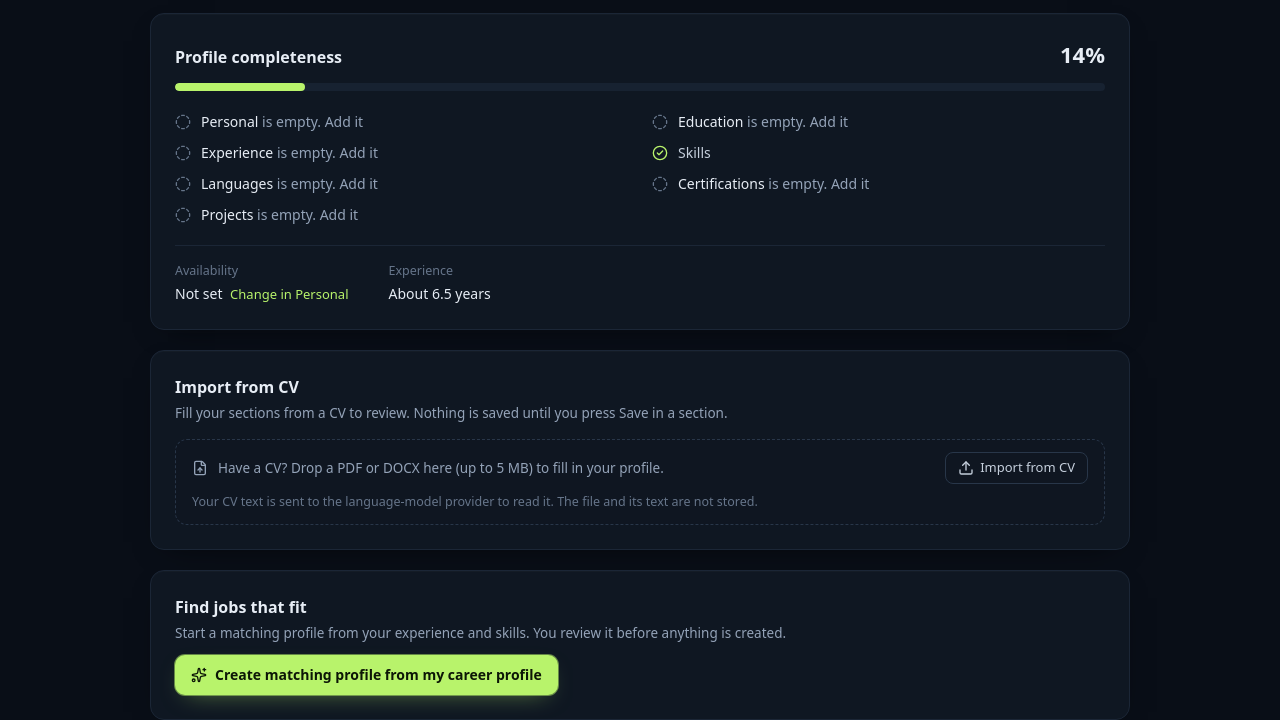
it: Create matching profile from my career profile › says what is missing even when the 422 has no error envelope
(page scrolled)
Click the button "Create matching profile from my career profile". click: point(366, 675)
box: [175,655,558,695]
(page scrolled)
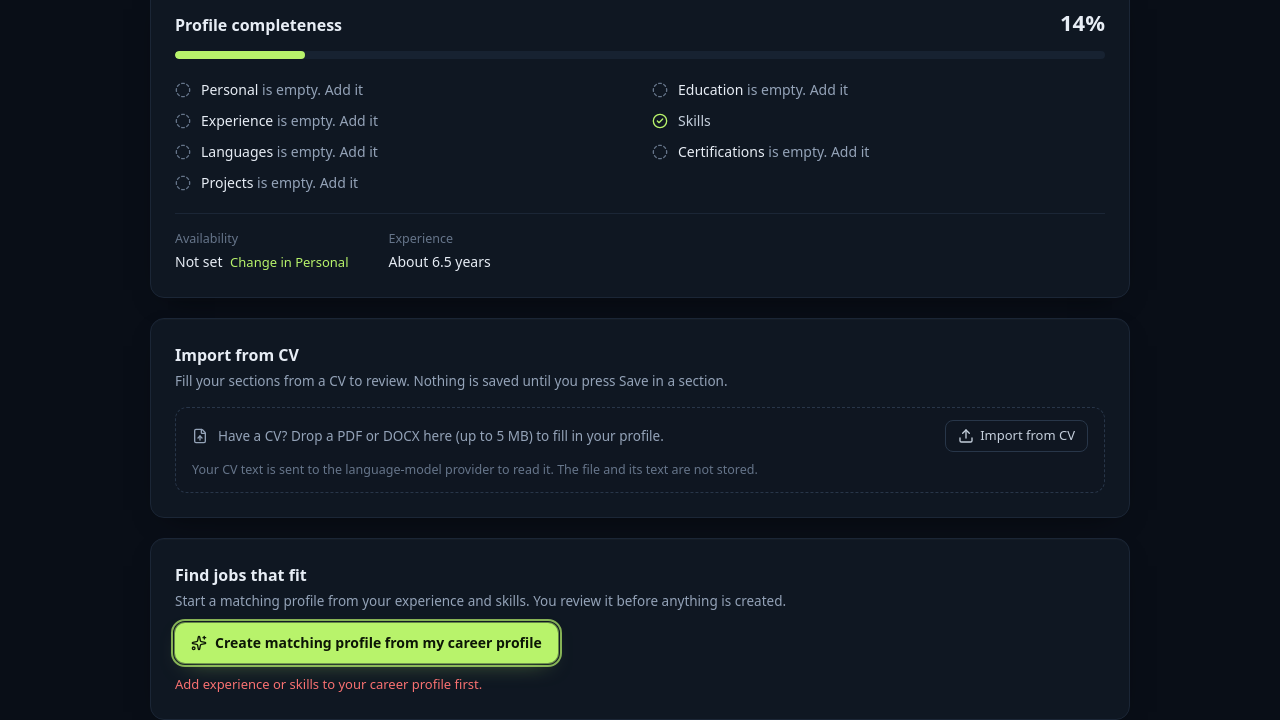
Check: the text "Add experience or skills to your career profile first." is shown, box [175,675,482,693]
